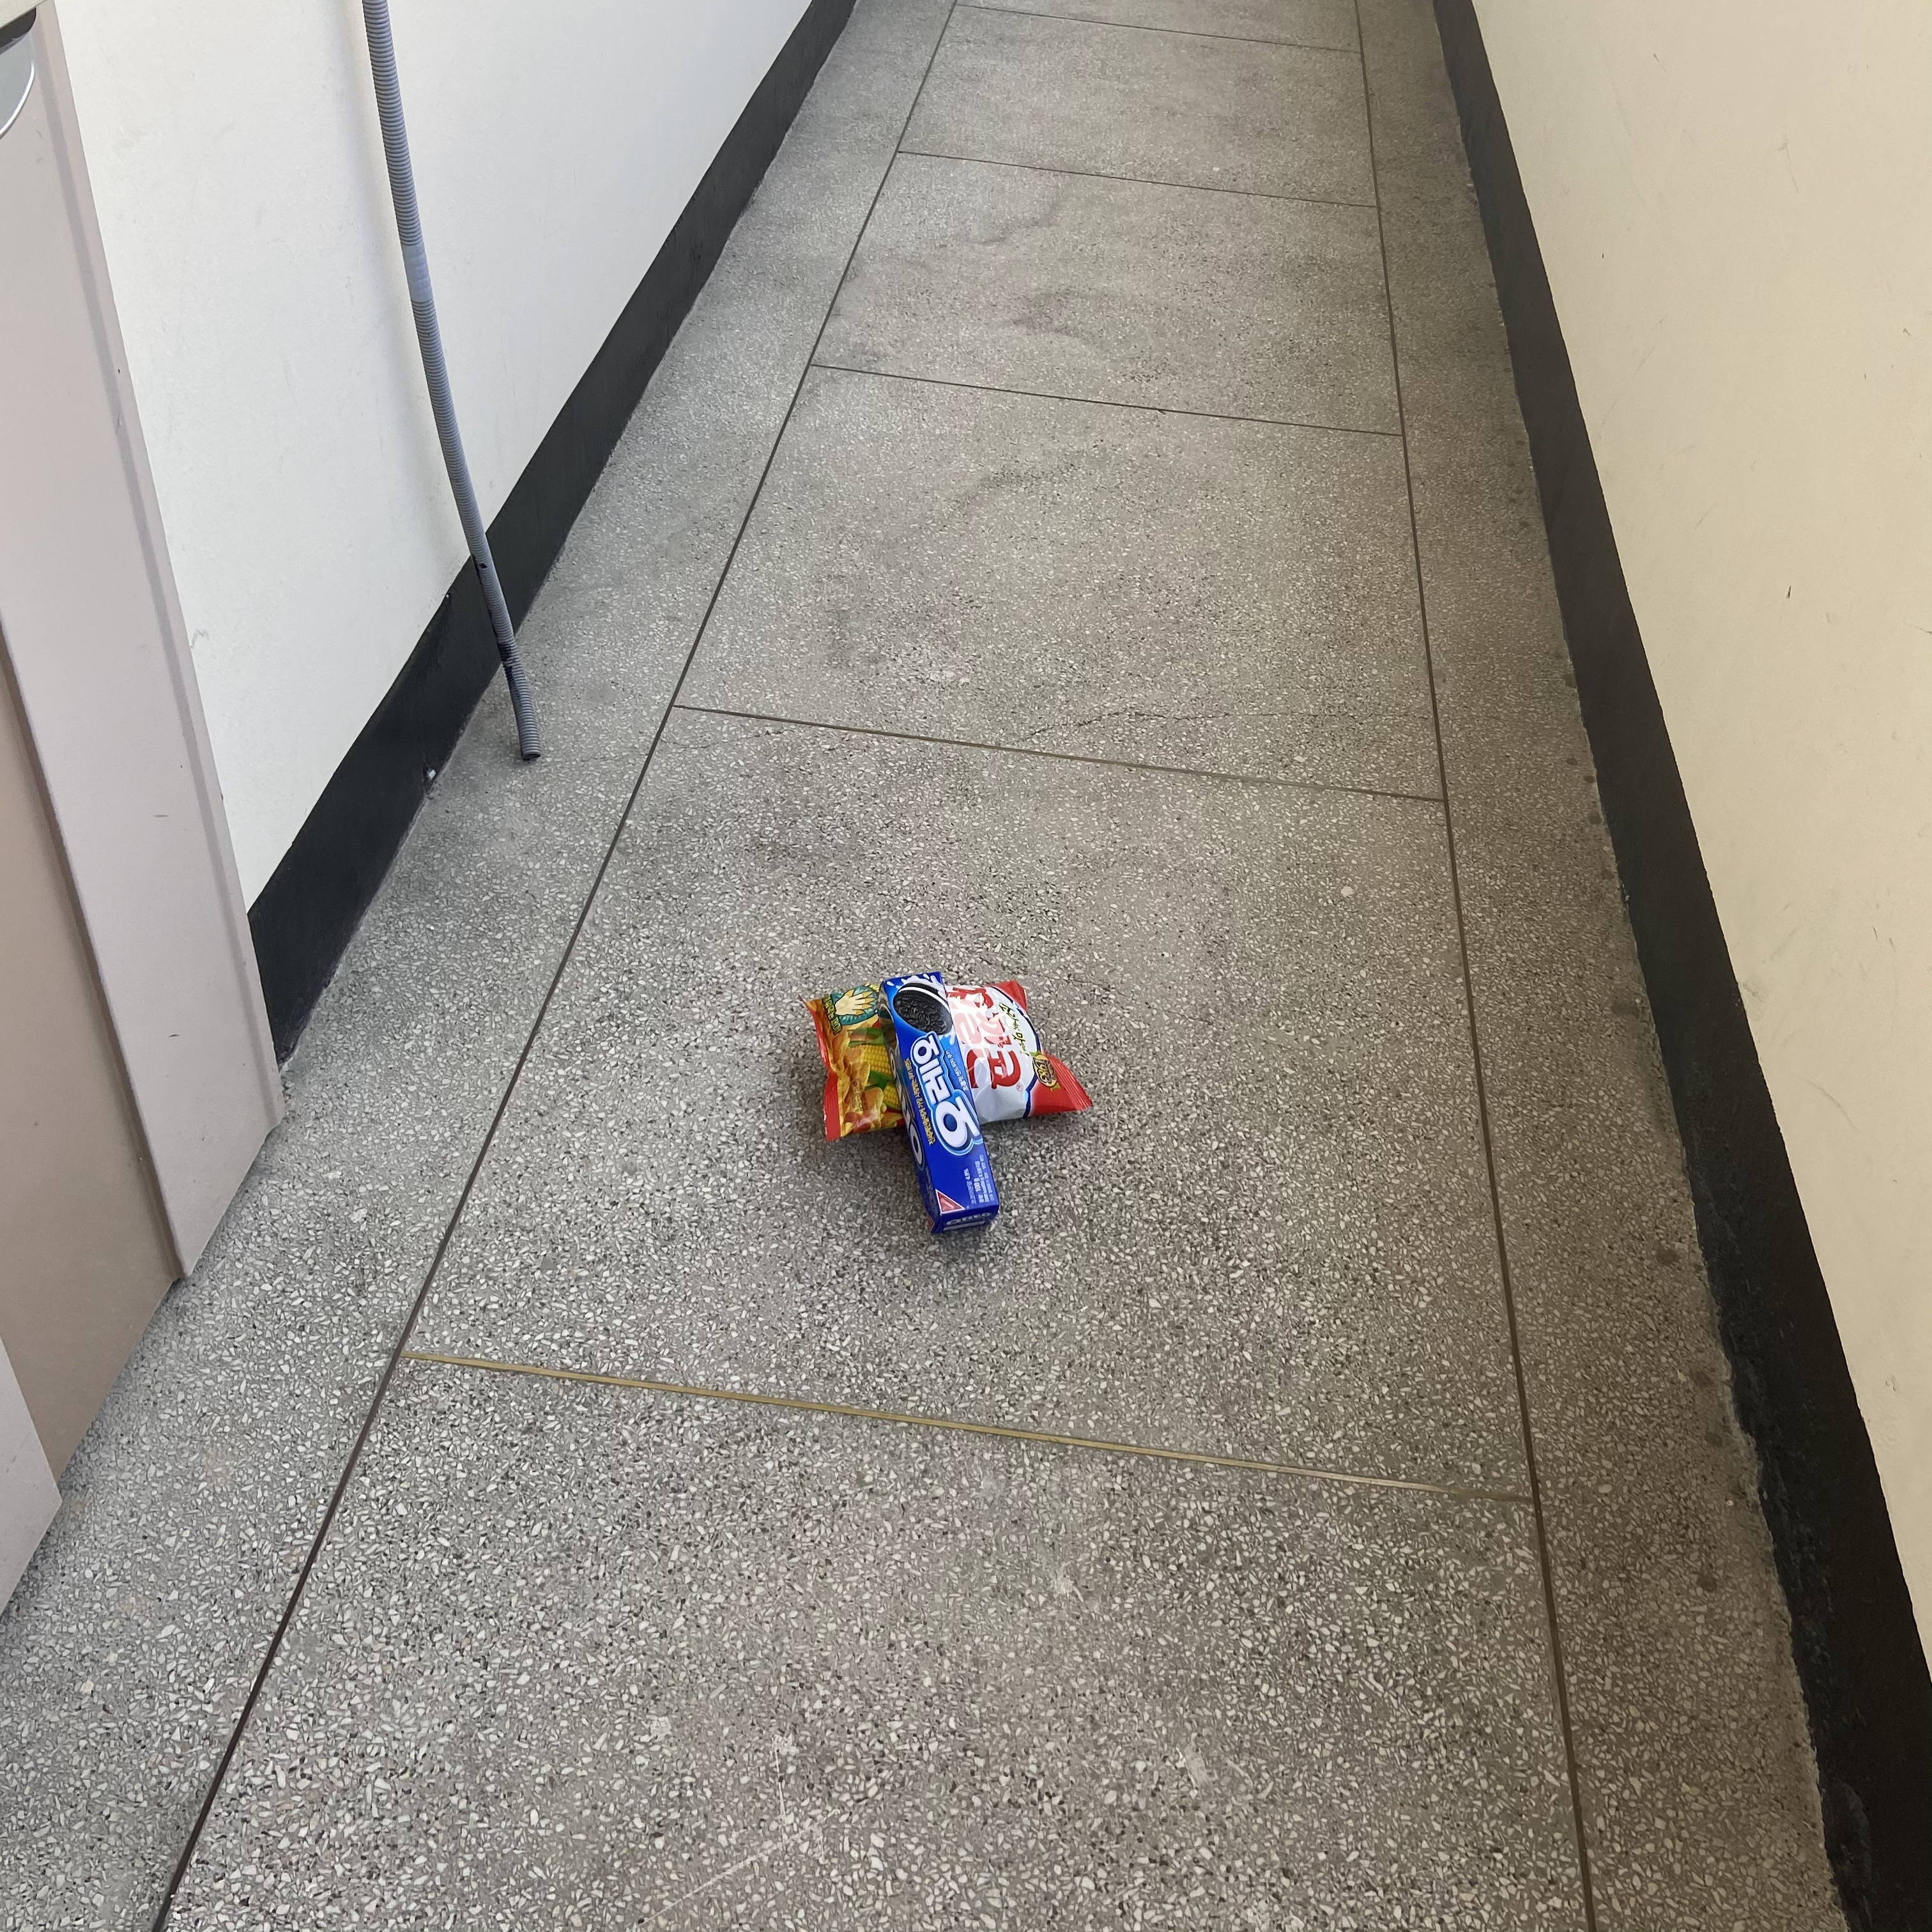ggoggalcon: (805, 966, 1097, 1154)
oreo: (865, 962, 1000, 1247)
